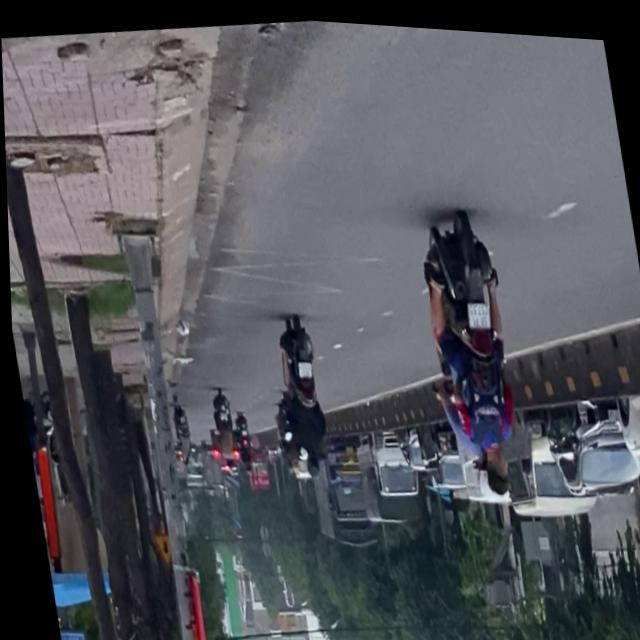helmet: (469, 450, 490, 491)
licenseplate: (407, 199, 532, 501)
motorcyclist: (478, 439, 510, 491)
nohelmet: (462, 294, 488, 323)
